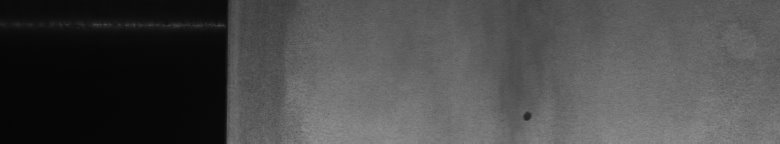fi: (520, 107, 536, 128)
